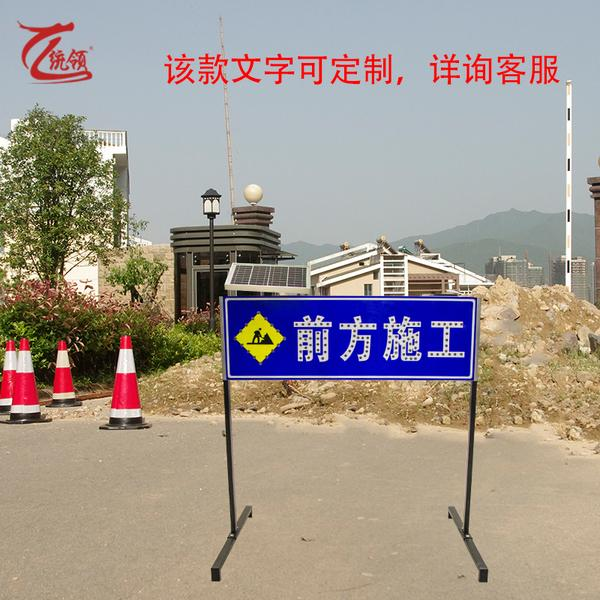sign: (218, 298, 480, 382)
